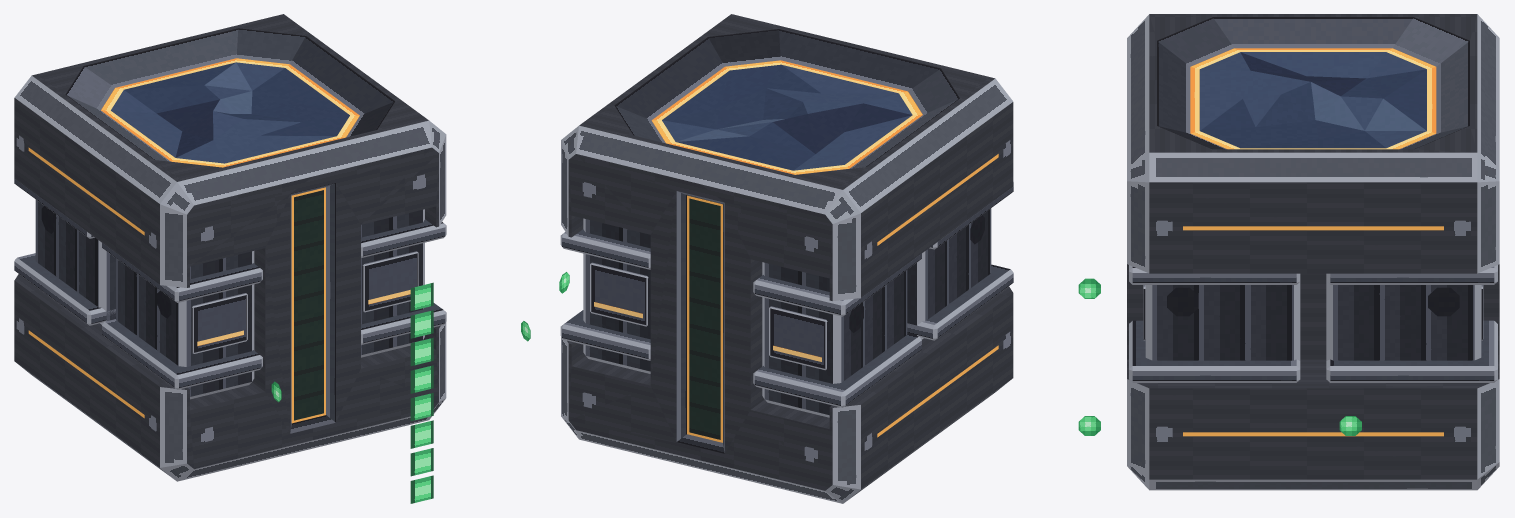
Rendered from marlit_battery.glb.
3 views of the same model, side by side, from view 1: azimuth 30°, elevation 25°; view 2: azimuth 150°, elevation 25°; view 3: azimuth 270°, elevation 25° (orthographic). The views are drawn at different scales.
Parts seen in each view (by area): view 1: marlit_battery_body, marlit_battery_seg4, marlit_battery_seg2, marlit_battery_seg0, marlit_battery_seg3, marlit_battery_seg5, marlit_battery_seg6, marlit_battery_seg1, marlit_battery_seg7; view 2: marlit_battery_body; view 3: marlit_battery_body, marlit_battery_ring0.
Boxes of the visible parts, x1,y1,x2,y2 form: marlit_battery_body: (14,14,446,481); marlit_battery_seg4: (410,365,433,393); marlit_battery_seg2: (410,420,433,448); marlit_battery_seg0: (410,475,433,503); marlit_battery_seg3: (410,393,433,421); marlit_battery_seg5: (410,337,433,365); marlit_battery_seg6: (410,310,433,338); marlit_battery_seg1: (410,448,433,476); marlit_battery_seg7: (410,282,433,310); marlit_battery_body: (560,14,1013,503); marlit_battery_body: (1127,14,1499,490); marlit_battery_ring0: (1078,278,1361,435).
Bounding box in the file's own units: 2.37 × 2.22 × 2.46.
1 material, 1 textured.
